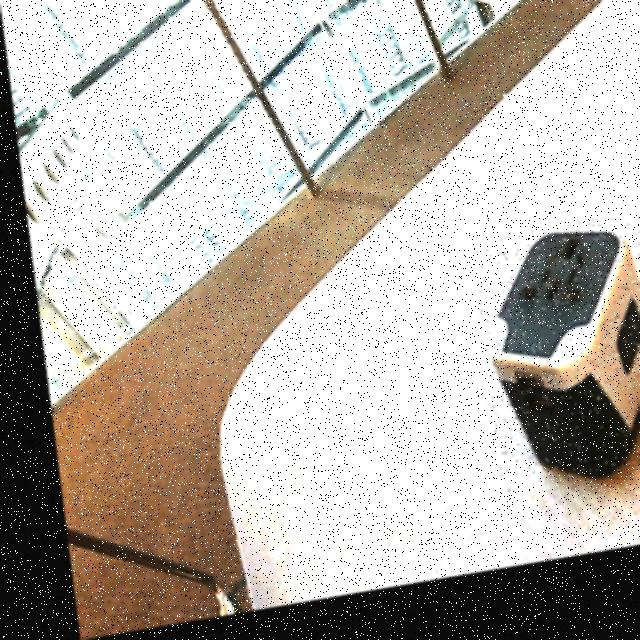adapter: (464, 232, 640, 509)
